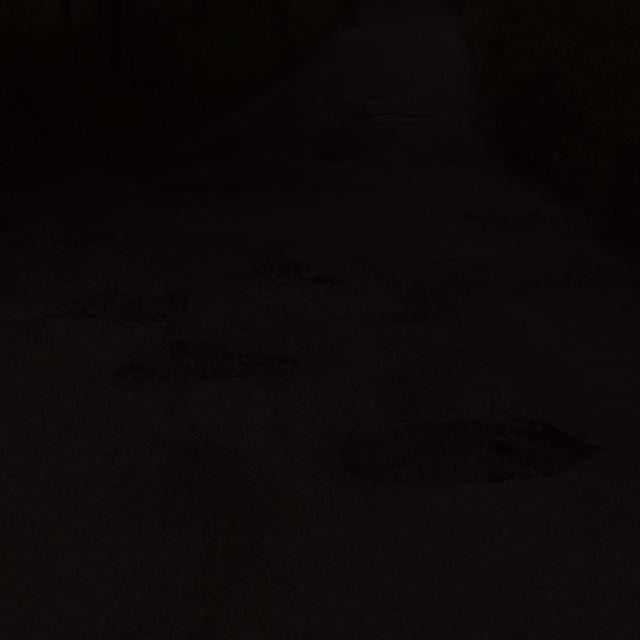Pothole: (322, 398, 610, 491), (162, 148, 378, 221), (100, 335, 305, 399), (49, 284, 193, 336), (210, 254, 344, 299), (438, 200, 588, 240), (387, 285, 448, 330), (362, 103, 441, 134), (53, 224, 124, 251)
